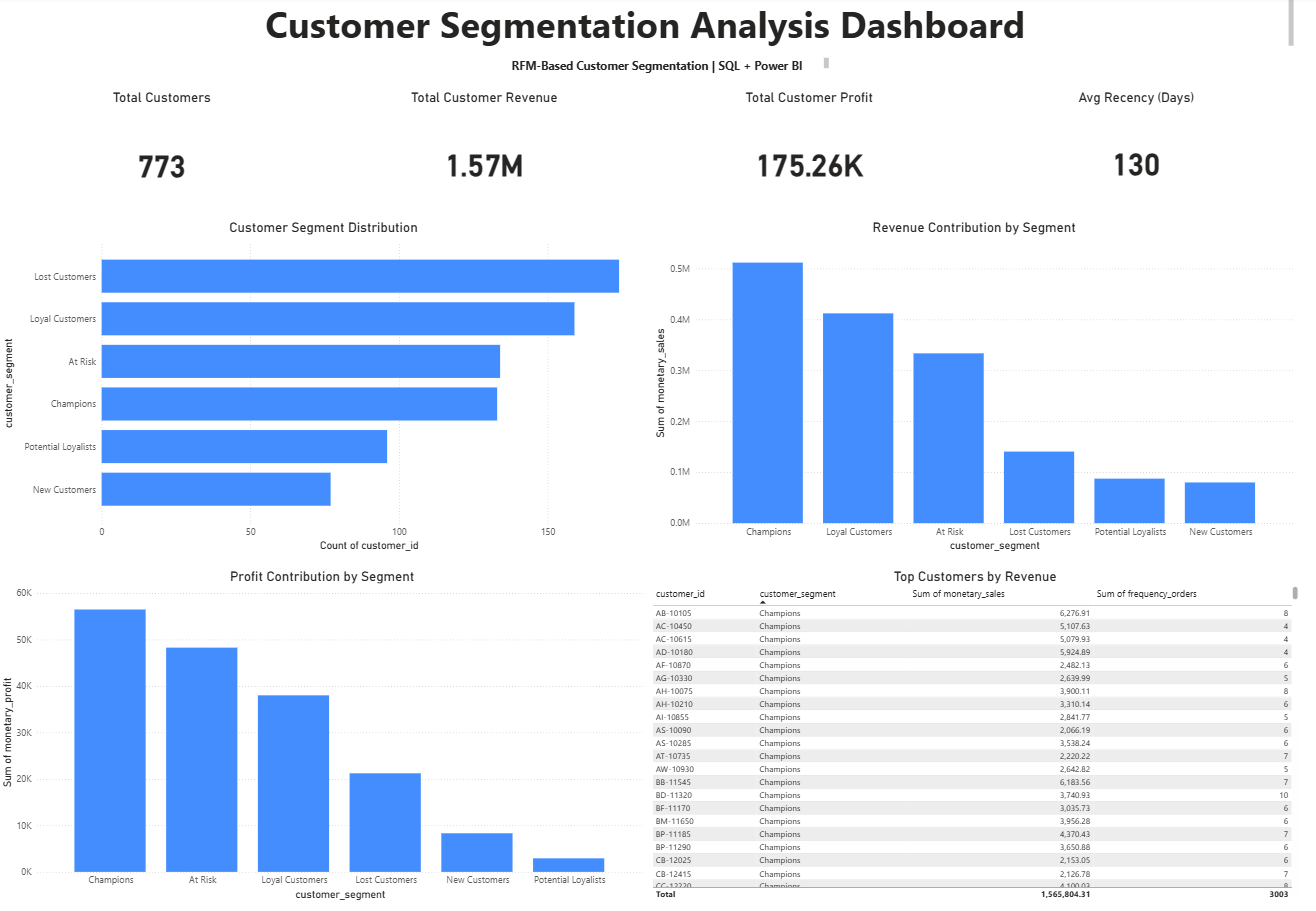

What the dashboard file says about the page in this screenshot:
{"tool":"powerbi","page":{"name":"Page 1","canvas":[2130,1480],"ordinal":0},"visuals":[{"type":"clusteredBarChart","title":"Customer Segment Distribution","fields":{"Category":["rfm_customer_segments.customer_segment"],"Y":["CountNonNull(rfm_customer_segments.customer_id)"]},"box":[2.8,361.4,1044.7,539.3],"z":0},{"type":"clusteredColumnChart","title":"Revenue Contribution by Segment","fields":{"Category":["rfm_customer_segments.customer_segment"],"Y":["Sum(rfm_customer_segments.monetary_sales)"]},"box":[1053.2,361.4,1039.1,539.3],"z":1000},{"type":"clusteredColumnChart","title":"Profit Contribution by Segment","fields":{"Category":["rfm_customer_segments.customer_segment"],"Y":["Sum(rfm_customer_segments.monetary_profit)"]},"box":[0,923.3,1044.7,539.3],"z":2000},{"type":"card","title":"Total Customers","fields":{"Values":["CountNonNull(rfm_customer_segments.customer_id)"]},"box":[14.1,141,499.5,221.6],"z":3000},{"type":"card","title":"Total Customer Revenue","fields":{"Values":["Sum(rfm_customer_segments.monetary_sales)"]},"box":[513.6,141,539.8,219.5],"z":4000},{"type":"card","title":"Avg Recency (Days)","fields":{"Values":["Avg(rfm_customer_segments.recency_days)"]},"box":[1567,141,533.8,215.5],"z":5000},{"type":"tableEx","title":"Top Customers by Revenue","fields":{"Values":["rfm_customer_segments.customer_id","rfm_customer_segments.customer_segment","Sum(rfm_customer_segments.monetary_sales)","Sum(rfm_customer_segments.frequency_orders)"]},"box":[1050.4,923.3,1050.4,539.3],"z":6000},{"type":"card","title":"Total Customer Profit","fields":{"Values":["Sum(rfm_customer_segments.monetary_profit)"]},"box":[1047.4,141,519.7,219.5],"z":7000},{"type":"textbox","box":[2,0,2090.7,94.7],"z":8000},{"type":"textbox","box":[787.5,94.7,555.9,40.3],"z":8001}]}

Visuals, with their boxes in screenshot pixels (x1, y1, x2, y2), scaled from the page's 2130x1480 canvas onto the 1316x911 screenshot:
"Customer Segment Distribution" clusteredBarChart: <region>2, 222, 647, 554</region>
"Revenue Contribution by Segment" clusteredColumnChart: <region>651, 222, 1293, 554</region>
"Profit Contribution by Segment" clusteredColumnChart: <region>0, 568, 645, 900</region>
"Total Customers" card: <region>9, 87, 317, 223</region>
"Total Customer Revenue" card: <region>317, 87, 651, 222</region>
"Avg Recency (Days)" card: <region>968, 87, 1298, 219</region>
"Top Customers by Revenue" tableEx: <region>649, 568, 1298, 900</region>
"Total Customer Profit" card: <region>647, 87, 968, 222</region>
textbox: <region>1, 0, 1293, 58</region>
textbox: <region>487, 58, 830, 83</region>
